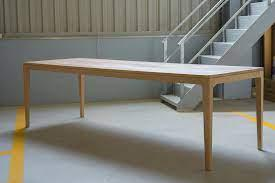desk: (9, 37, 270, 172)
